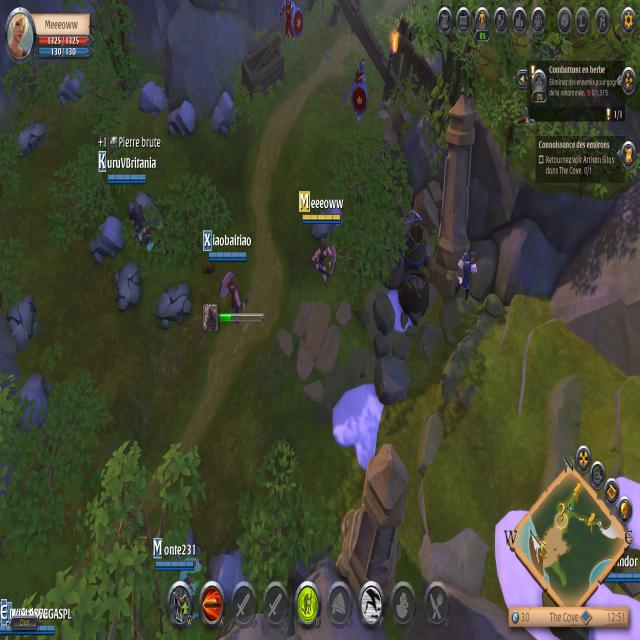broken stone: (6, 289, 41, 352), (152, 278, 194, 329), (114, 259, 143, 313), (12, 118, 50, 158)
stone: (13, 371, 52, 429), (87, 214, 126, 266), (209, 90, 240, 136), (136, 75, 167, 118), (166, 98, 198, 138), (54, 67, 87, 105)
